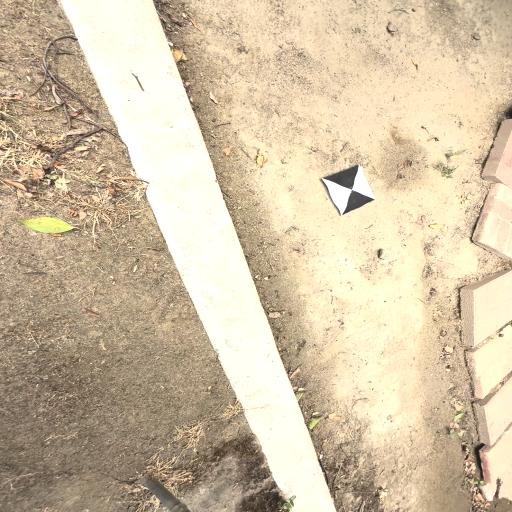target: (321, 165, 377, 215)
